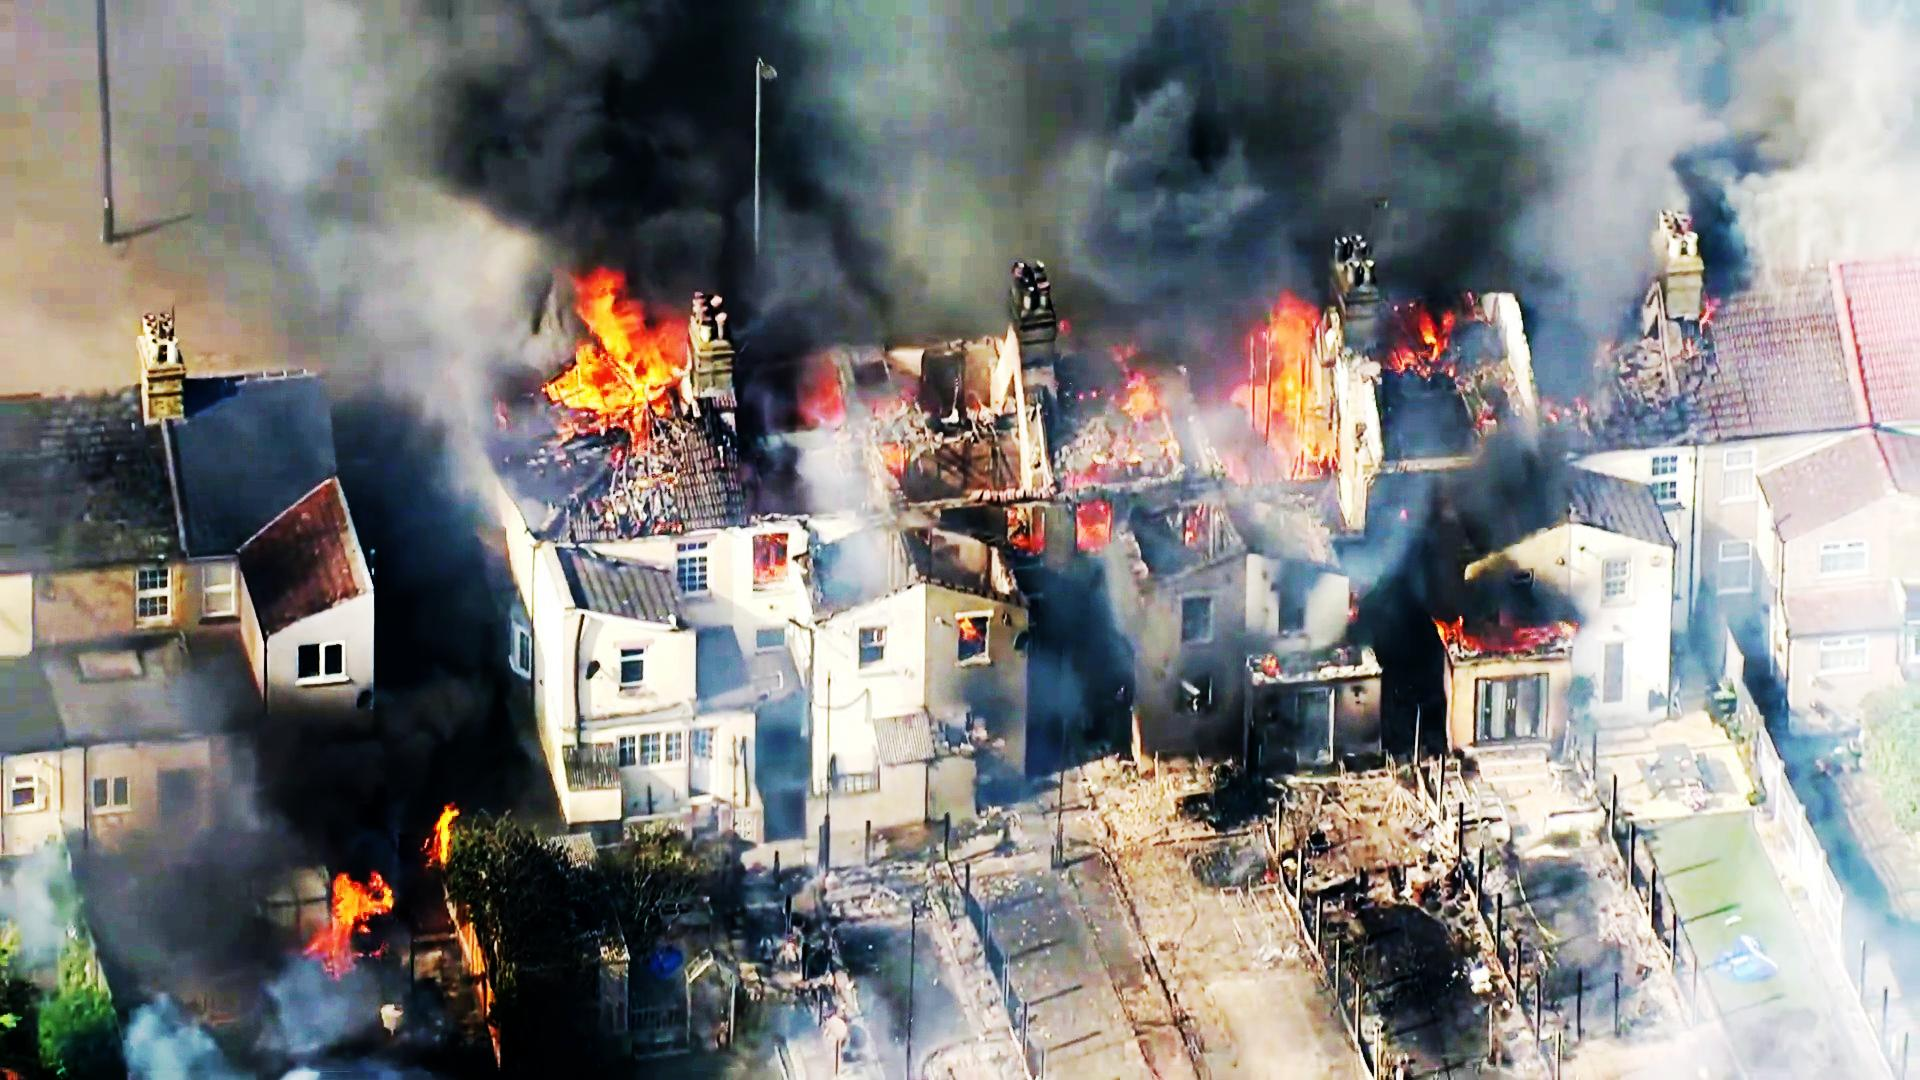fire: (1225, 303, 1350, 484), (549, 270, 673, 414)
smoke: (914, 0, 1284, 248)
